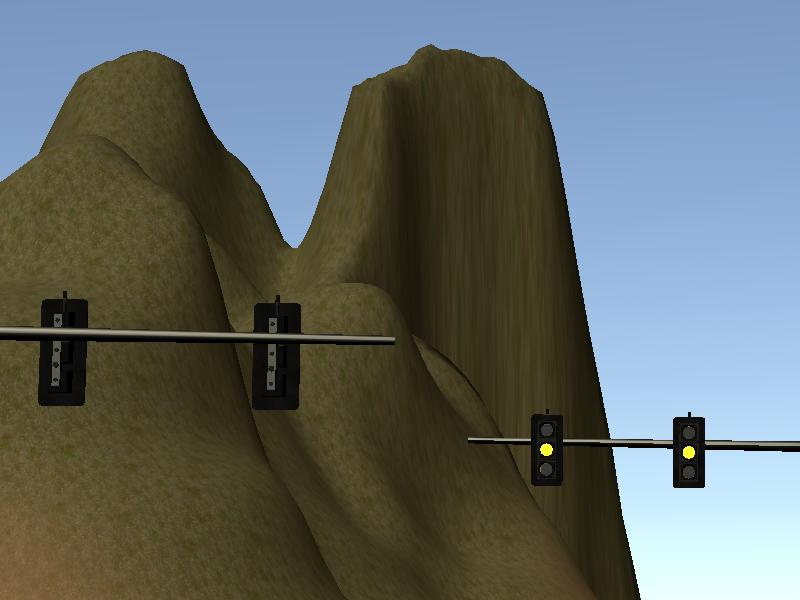yellow_light: (673, 419, 704, 487), (532, 417, 562, 485)
